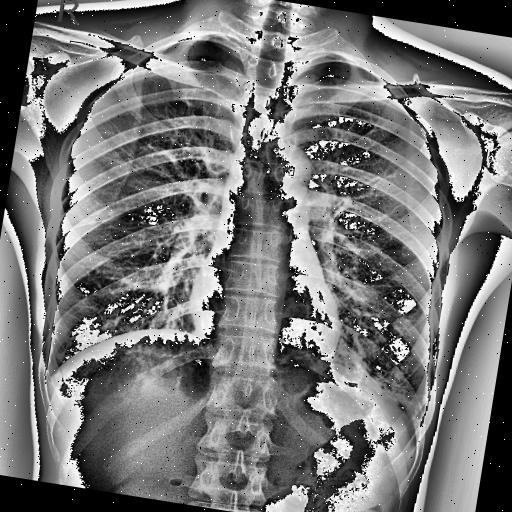13- Pulmonary fibrosis: (277, 327, 433, 414), (338, 346, 431, 419)
7- Lung Opacity: (337, 348, 369, 392)
9- Other lesion: (337, 348, 369, 392)
